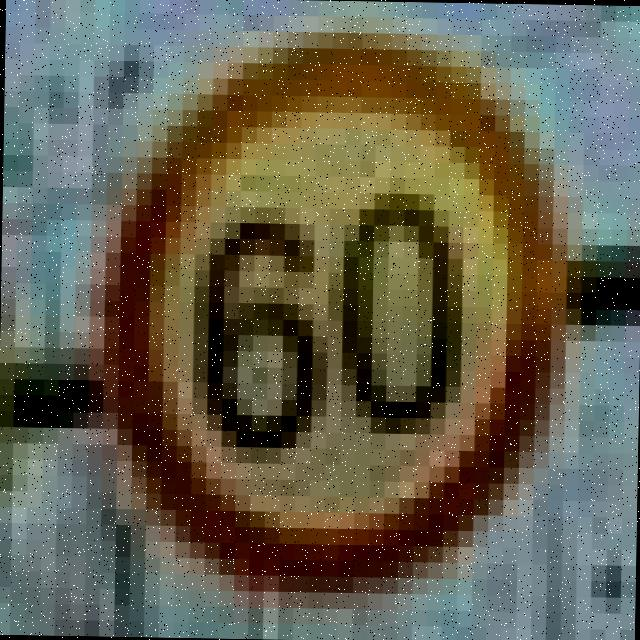Ograniczenie predkosci do 60: (85, 12, 556, 580)
